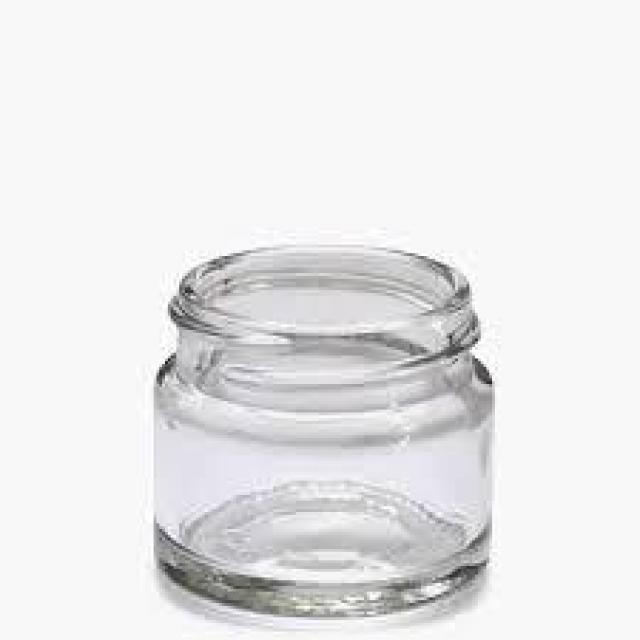non-organic waste: (145, 234, 504, 622)
